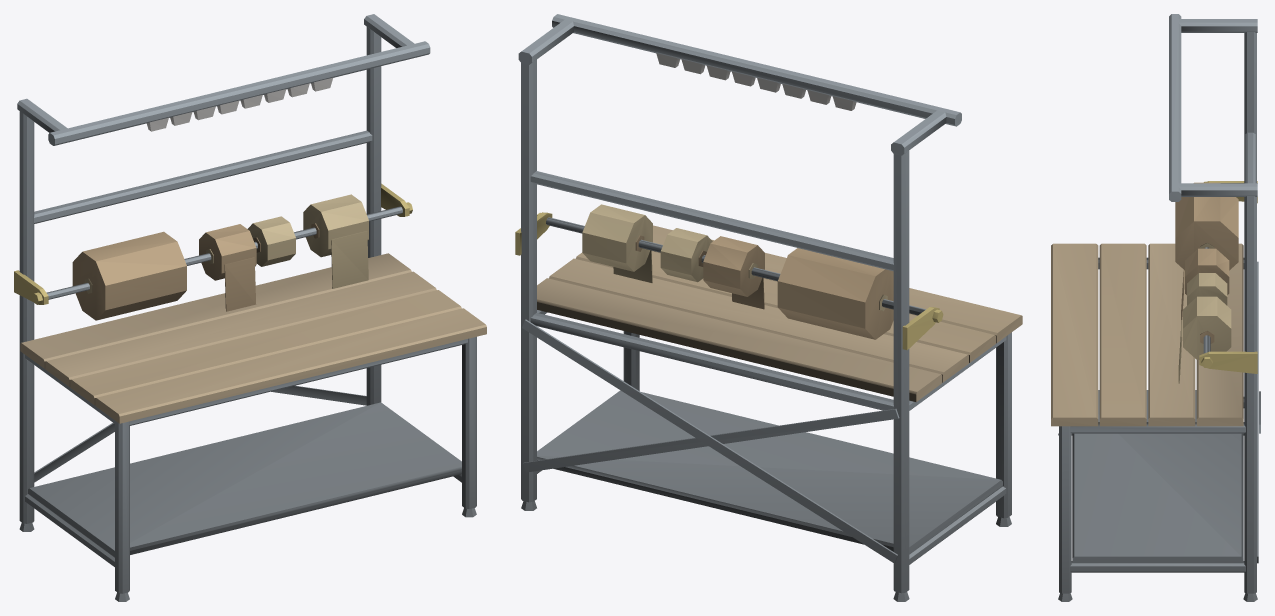
File: bench.glb
The picture shows the model from 3 angles, left to right: view 1: azimuth 30°, elevation 25°; view 2: azimuth 150°, elevation 25°; view 3: azimuth 270°, elevation 25°; orthographic projection. The views are drawn at different scales.
Parts seen in each view (by area): view 1: bench; view 2: bench; view 3: bench.
Boxes of the visible parts, x1=… form: bench: x1=14, y1=14, x2=486, y2=601; bench: x1=515, y1=14, x2=1022, y2=601; bench: x1=1051, y1=14, x2=1260, y2=601.
Size of the model in its own units: 1.84 by 2 by 0.9175.
